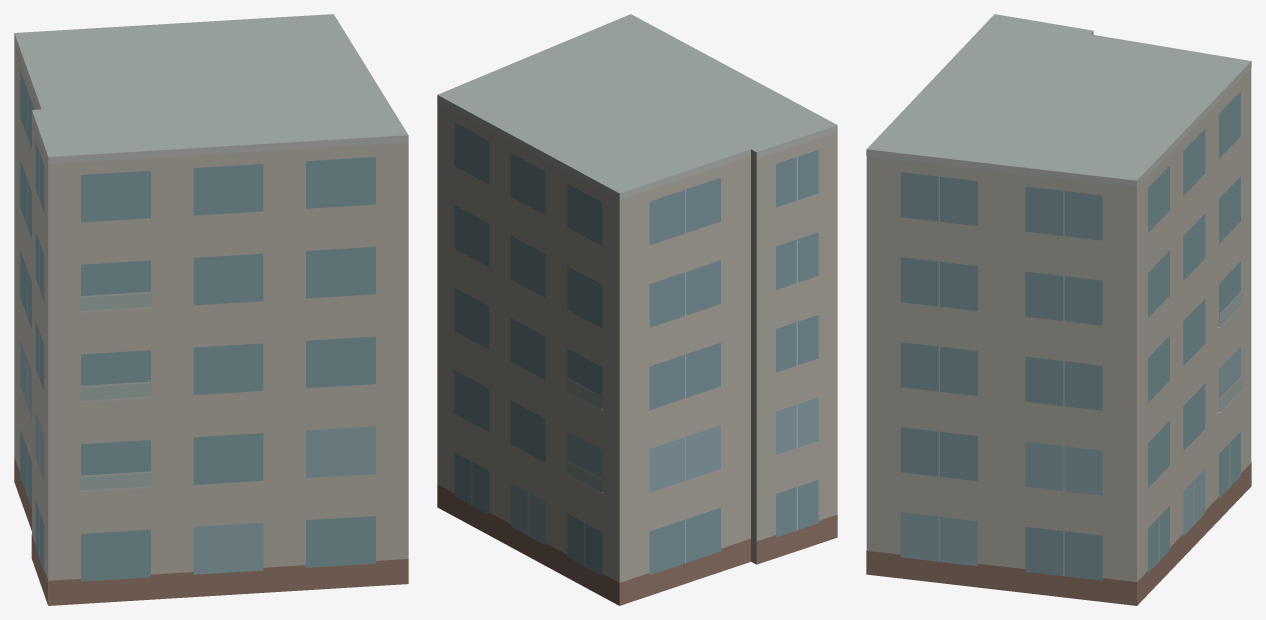
The model's file is survey-upis-32577890.glb.
3 renders of one model, left to right at view 1: azimuth 30°, elevation 25°; view 2: azimuth 150°, elevation 25°; view 3: azimuth 270°, elevation 25°, orthographic. The views are drawn at different scales.
Parts seen in each view (by area): view 1: survey-upis-32577890.tmp; view 2: survey-upis-32577890.tmp; view 3: survey-upis-32577890.tmp.
Part boxes in pixels (x1,y1,x2,y2): survey-upis-32577890.tmp: (14,14,408,605); survey-upis-32577890.tmp: (437,14,837,605); survey-upis-32577890.tmp: (866,14,1251,605).
Size of the model in its own units: 12.79 by 15.2 by 12.48.
